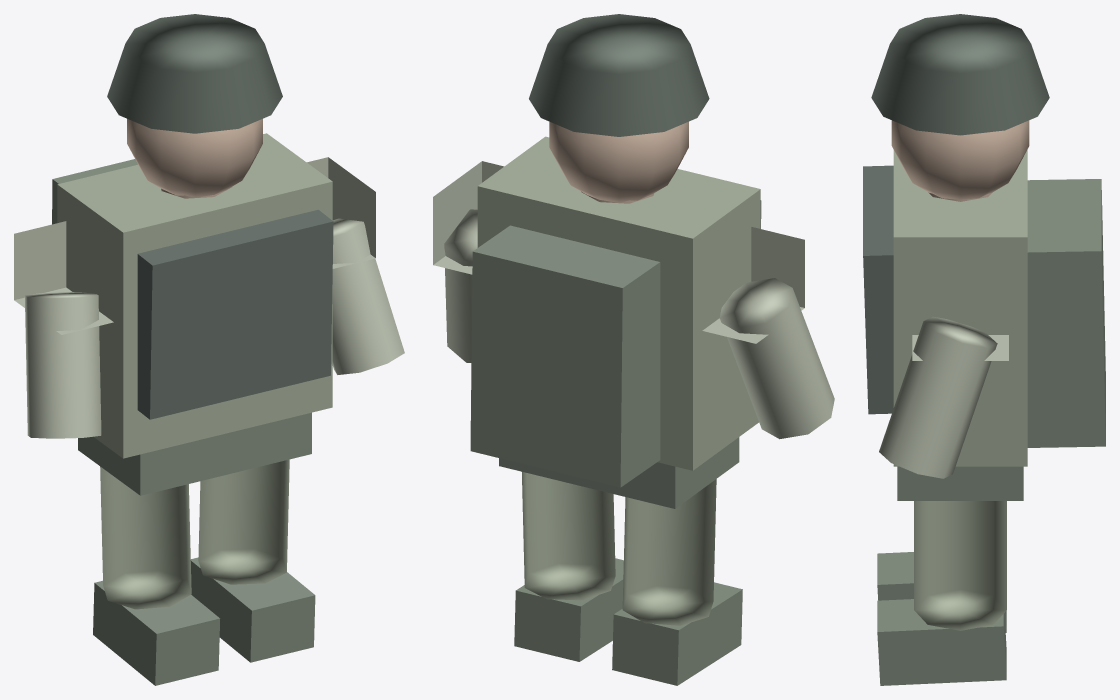
File: character-player-lod1.glb
The picture shows the model from 3 angles, left to right: view 1: azimuth 30°, elevation 25°; view 2: azimuth 150°, elevation 25°; view 3: azimuth 270°, elevation 25°; orthographic projection. The views are drawn at different scales.
Visible parts, largest first — view 1: character-lod1-uniform, character-lod1-armor, character-lod1-uniformDark, character-lod1-uniformLight, character-lod1-helmet, character-lod1-skin; view 2: character-lod1-uniformDark, character-lod1-uniform, character-lod1-uniformLight, character-lod1-helmet, character-lod1-skin; view 3: character-lod1-uniform, character-lod1-uniformDark, character-lod1-helmet, character-lod1-uniformLight, character-lod1-skin, character-lod1-armor.
Boxes of the visible parts, x1,y1,x2,y2 form: character-lod1-uniform: (57,133,332,609); character-lod1-armor: (137,209,333,419); character-lod1-uniformDark: (52,159,315,685); character-lod1-uniformLight: (14,157,404,438); character-lod1-helmet: (107,14,282,133); character-lod1-skin: (127,119,262,198); character-lod1-uniformDark: (470,225,742,685); character-lod1-uniform: (477,136,760,625); character-lod1-uniformLight: (433,161,834,439); character-lod1-helmet: (529,14,709,136); character-lod1-skin: (549,121,688,203); character-lod1-uniform: (893,149,1027,630); character-lod1-uniformDark: (877,179,1105,685); character-lod1-helmet: (871,14,1049,135); character-lod1-uniformLight: (879,316,1008,478); character-lod1-skin: (891,120,1029,201); character-lod1-armor: (863,165,893,414).
Size of the model in its own units: 1.17 by 1.79 by 0.6528.
